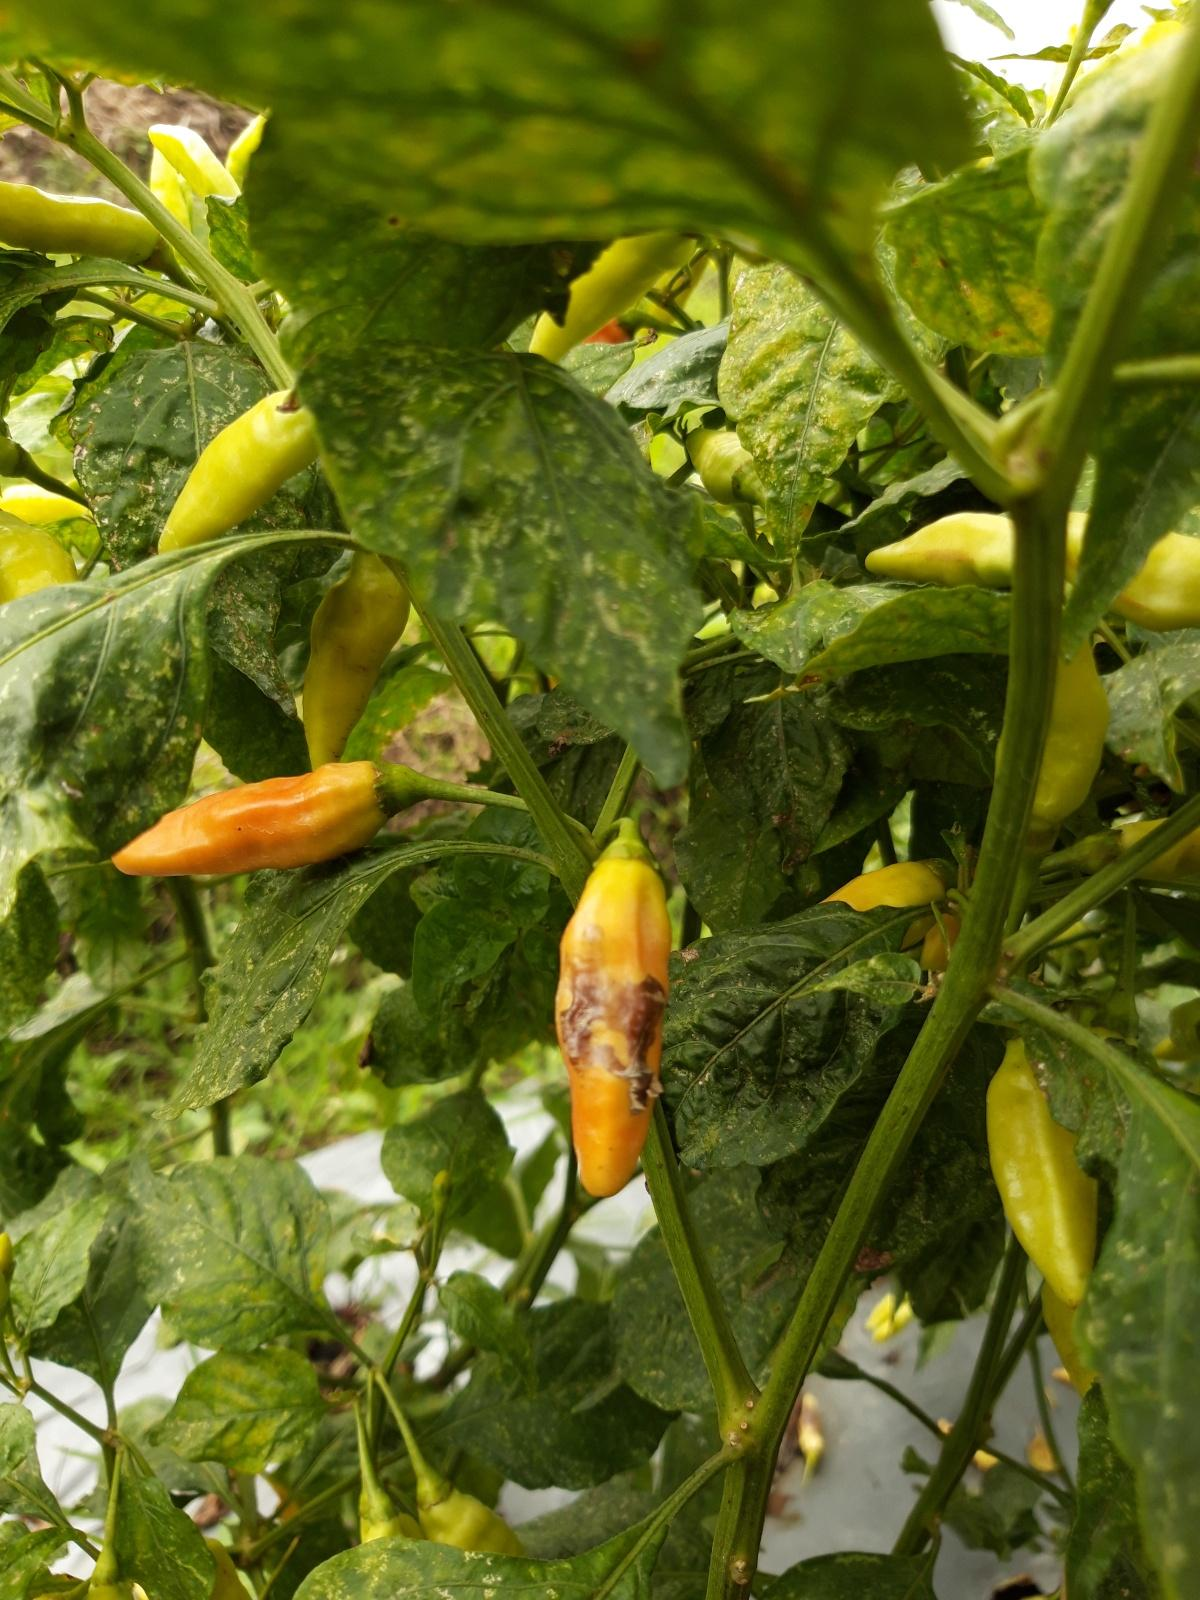cabai_normal: (865, 504, 1200, 636), (112, 760, 418, 878), (982, 1036, 1114, 1299), (158, 391, 321, 549), (295, 556, 413, 769), (1, 183, 174, 273)
lalat_buah: (555, 837, 672, 1198)
